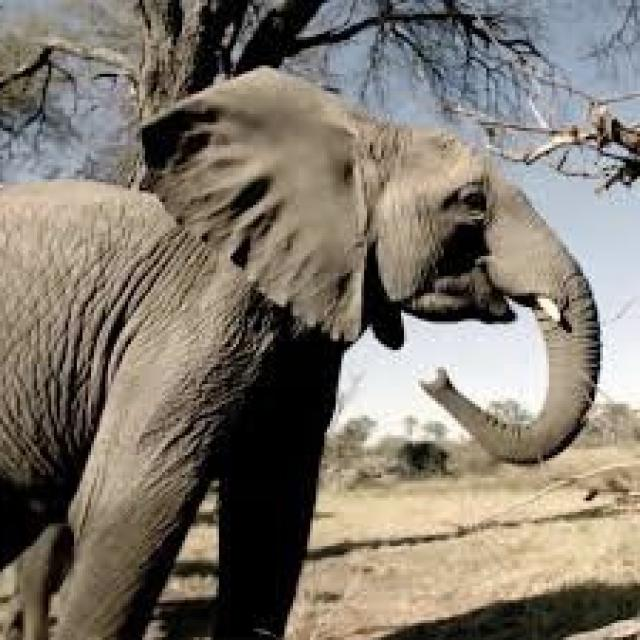elephant: (3, 68, 600, 637)
